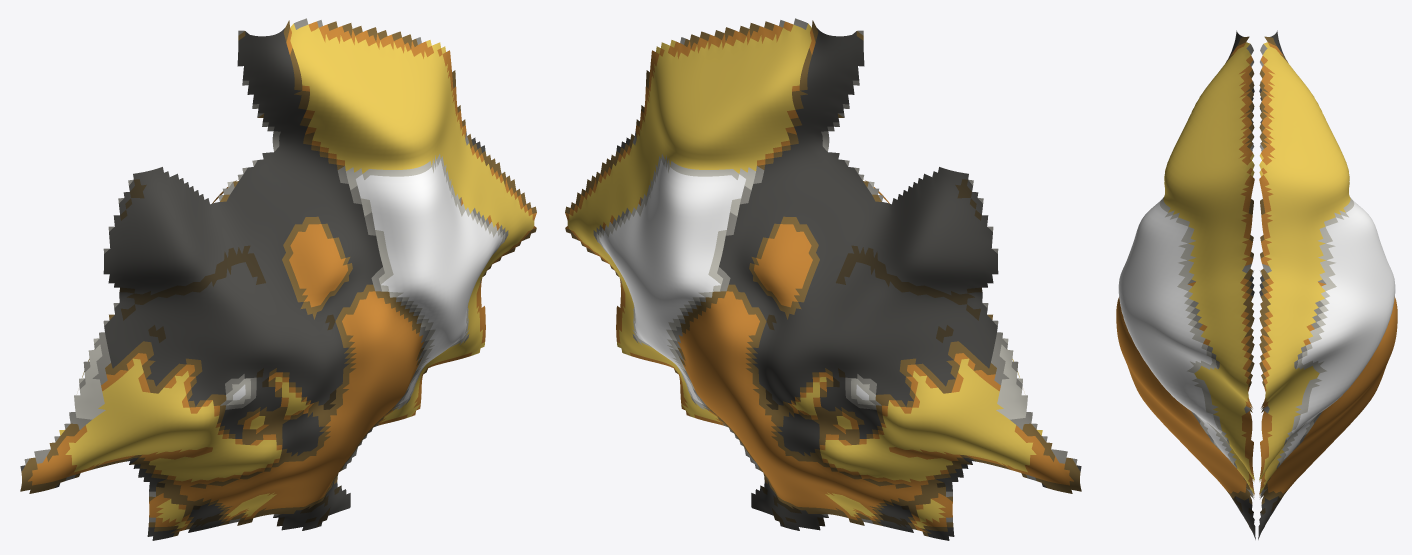
Rendered from ratouille.glb.
3 renders of one model, left to right at view 1: azimuth 30°, elevation 25°; view 2: azimuth 150°, elevation 25°; view 3: azimuth 270°, elevation 25°, orthographic. The views are drawn at different scales.
Parts seen in each view (by area): view 1: ratouille; view 2: ratouille; view 3: ratouille.
Boxes of the visible parts, <box> form: ratouille: <box>20,18,536,540</box>; ratouille: <box>565,18,1081,540</box>; ratouille: <box>1116,30,1397,539</box>.
Bounding box in the file's own units: 696 × 667 × 351.
